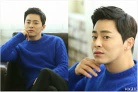male: (81, 4, 138, 72), (21, 6, 49, 42)
